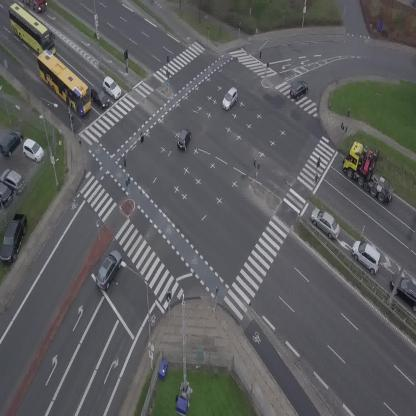bicycle: (68, 113, 75, 129)
bus: (29, 47, 101, 118), (0, 1, 65, 61)
car: (346, 236, 388, 277), (91, 247, 127, 293), (305, 205, 345, 242), (86, 84, 114, 111), (217, 86, 243, 112), (98, 75, 125, 100), (286, 78, 311, 102), (174, 126, 195, 152)
lorry: (335, 134, 399, 214), (21, 0, 47, 13)
